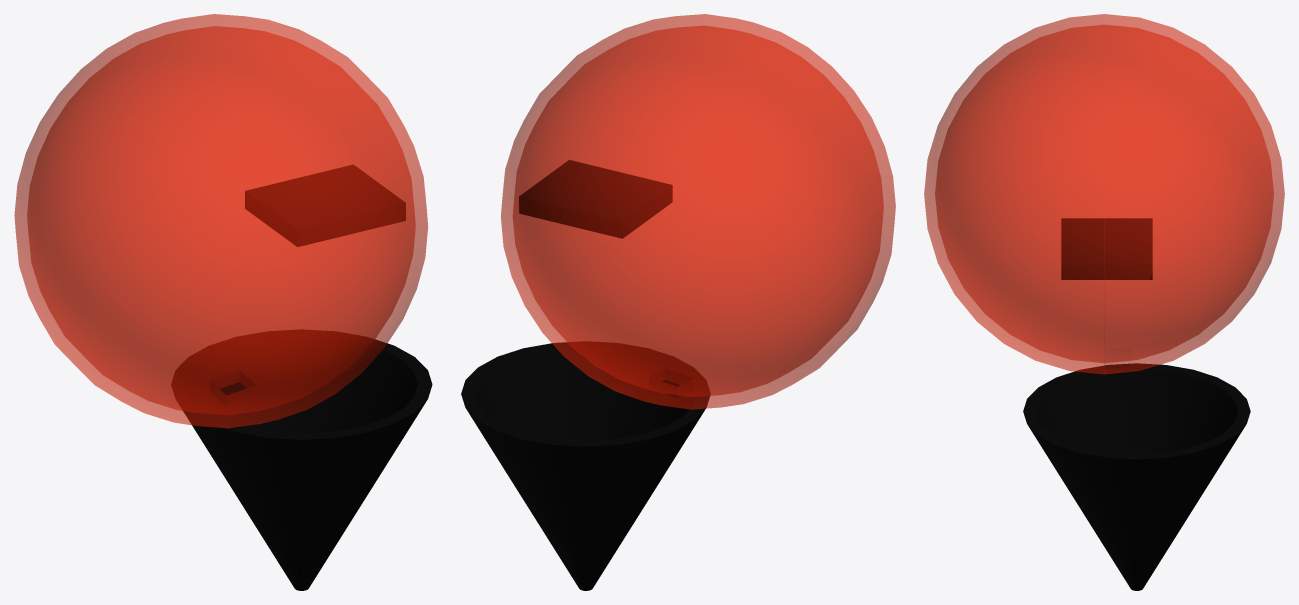
File: StartSphere.FBX
3 renders of one model, left to right at view 1: azimuth 30°, elevation 25°; view 2: azimuth 150°, elevation 25°; view 3: azimuth 270°, elevation 25°, orthographic. The views are drawn at different scales.
Visible parts, largest first — view 1: Sphere001, Cone001, Box002; view 2: Sphere001, Cone001, Box002; view 3: Sphere001, Cone001, Box002.
Boxes of the visible parts, left/top/right/bottom form: Sphere001: left=14, top=14, right=428, bottom=428; Cone001: left=171, top=330, right=432, bottom=590; Box002: left=245, top=164, right=405, bottom=246; Sphere001: left=501, top=14, right=895, bottom=409; Cone001: left=461, top=342, right=709, bottom=590; Box002: left=519, top=160, right=672, bottom=238; Sphere001: left=924, top=14, right=1284, bottom=374; Cone001: left=1023, top=363, right=1250, bottom=590; Box002: left=1061, top=218, right=1152, bottom=279.
Bounding box in the file's own units: 319 × 461 × 293.
